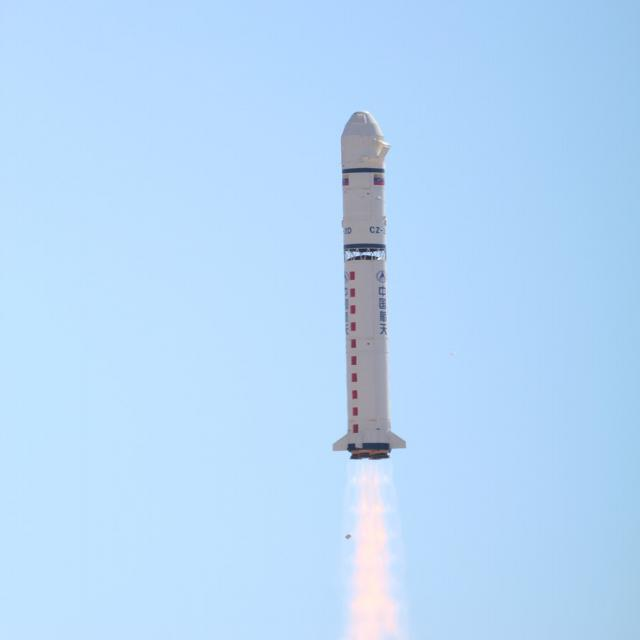missile: (322, 92, 417, 468)
